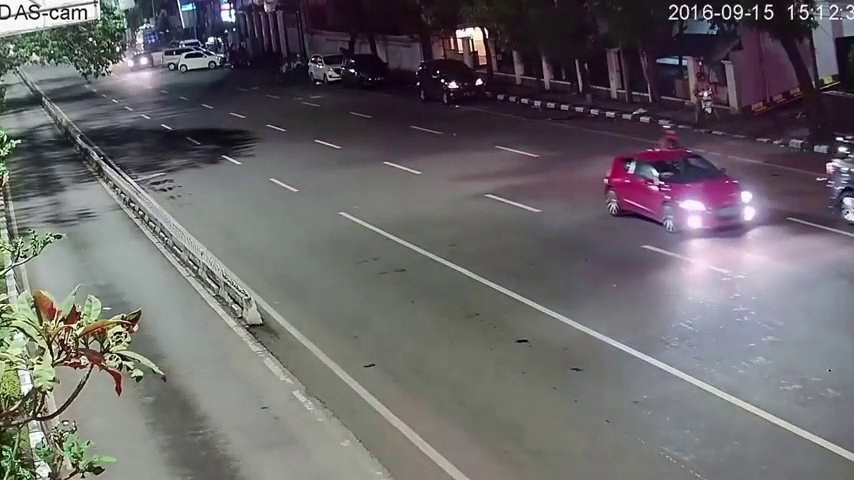car: (607, 152, 750, 242), (417, 59, 486, 105), (343, 54, 392, 88), (308, 52, 346, 86), (179, 51, 225, 73), (129, 52, 154, 71)
motorbike: (693, 72, 718, 122), (662, 123, 690, 162)
